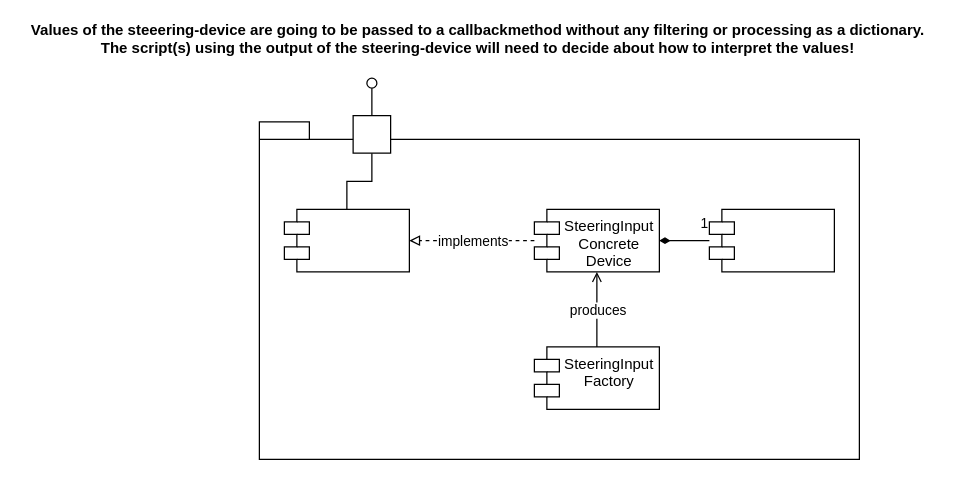
Image size: 955x481. Some labels were removed from this diagram. Each missing label, with the box of its shape:
SteeringInput Config: (708, 208, 834, 272)
SteeringInput Device: (283, 208, 409, 272)
